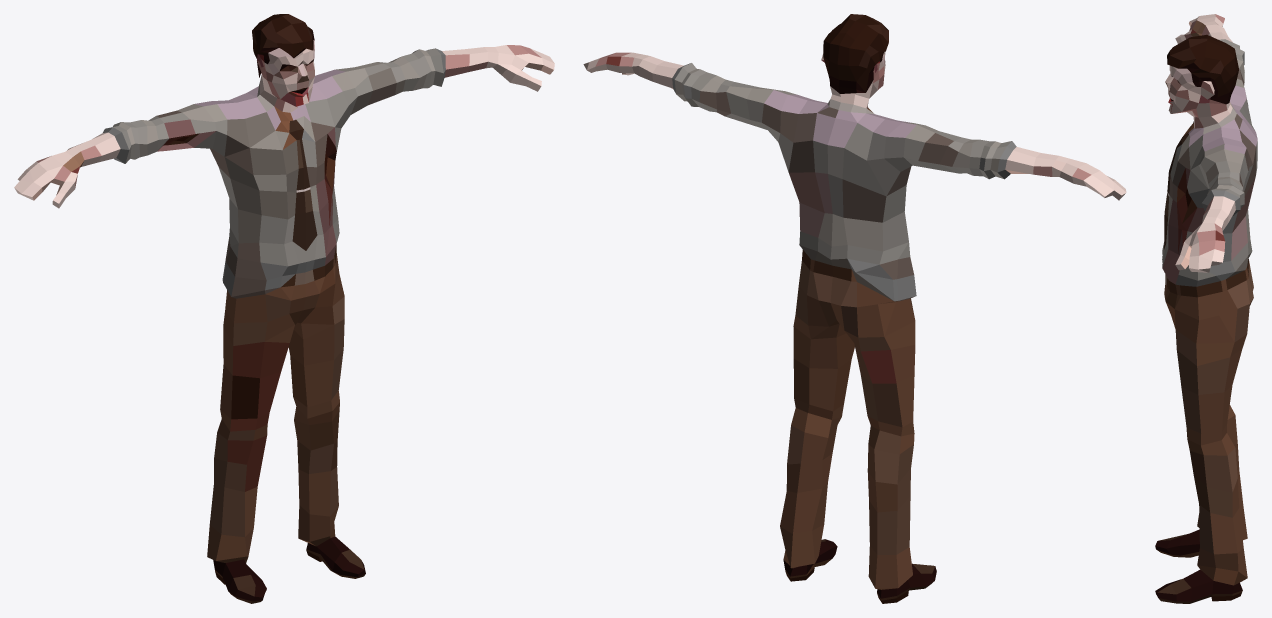
File: lpMale_zombie_A-model.fbx
3 views of the same model, side by side, from view 1: azimuth 30°, elevation 25°; view 2: azimuth 150°, elevation 25°; view 3: azimuth 270°, elevation 25° (orthographic). The views are drawn at different scales.
Parts seen in each view (by area): view 1: lpMale_zombie_A; view 2: lpMale_zombie_A; view 3: lpMale_zombie_A.
Part boxes in pixels (<box>): lpMale_zombie_A: <box>14,14,554,603</box>; lpMale_zombie_A: <box>583,14,1126,603</box>; lpMale_zombie_A: <box>1155,14,1257,603</box>.
Size of the model in its own units: 168 by 167 by 28.97.
1 material, 1 textured.
